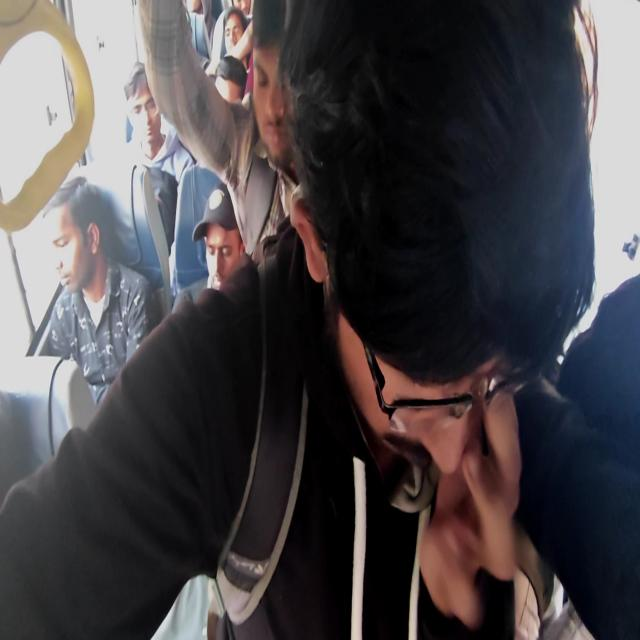person: (292, 19, 592, 475), (248, 12, 315, 170), (42, 185, 104, 297), (126, 76, 184, 186), (201, 192, 249, 280), (219, 64, 251, 144), (223, 12, 259, 66)
